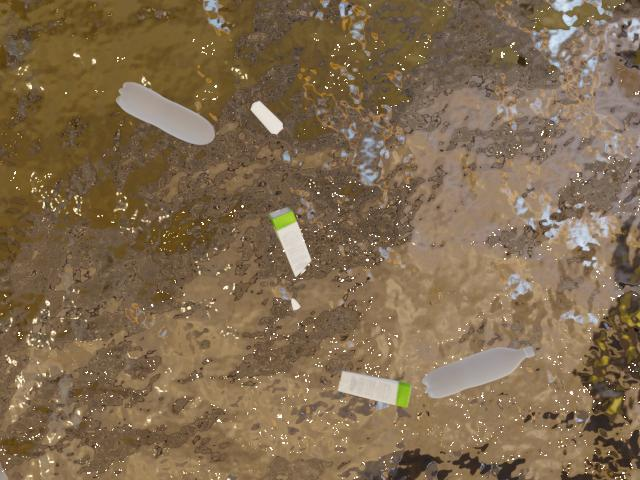Metal: (109, 77, 222, 148), (425, 344, 549, 400), (246, 74, 314, 139)
Trash: (261, 199, 346, 291), (316, 365, 423, 411)
